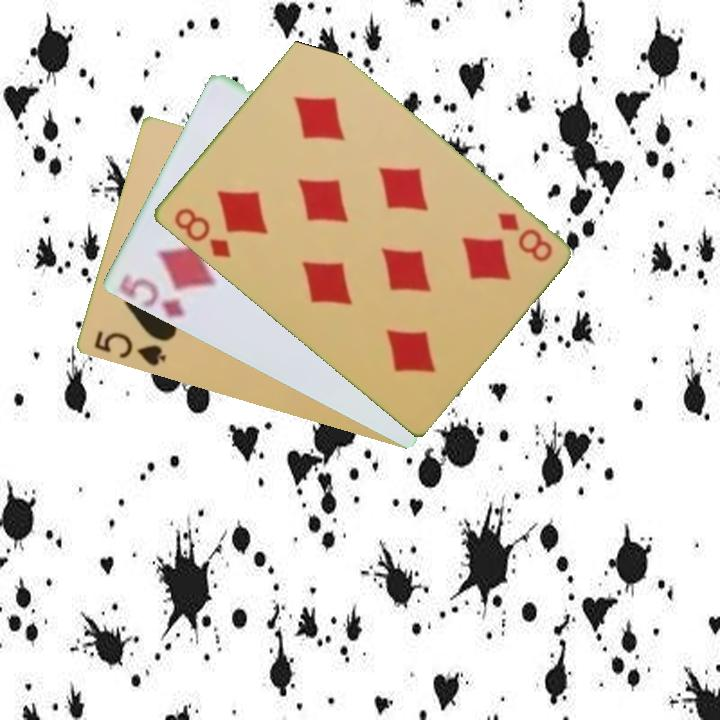5d: (119, 273, 189, 321)
5s: (90, 327, 169, 370)
8d: (170, 204, 234, 261), (493, 208, 555, 265)
